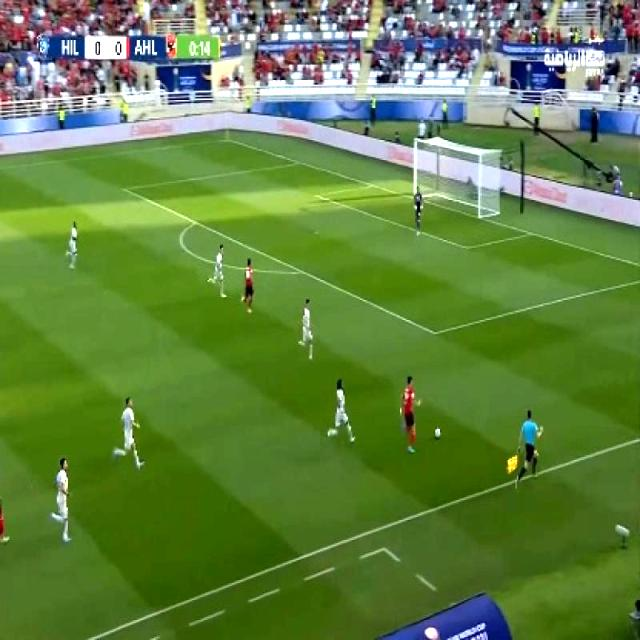bigarea_bottom_inner: (425, 322, 443, 342)
bigarea_top_inner: (118, 180, 132, 197)
bigarea_top_outter: (290, 154, 305, 168)
bottom_arc_area_intersection: (294, 262, 309, 280)
corner: (218, 132, 234, 145)
smallarea_bottom_inner: (458, 238, 472, 256)
smallarea_bottom_outter: (522, 223, 536, 242)
smallarea_top_inner: (309, 188, 326, 202)
smallarea_top_outter: (364, 178, 379, 192)
top_arc_area_intersection: (186, 212, 202, 230)
